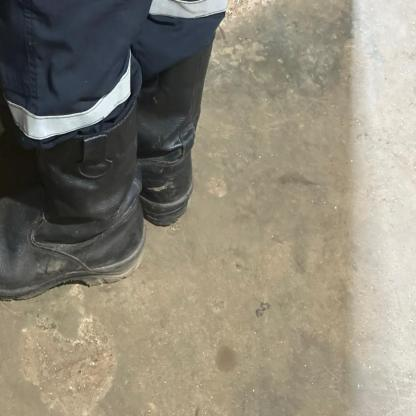bota: (0, 100, 152, 297), (136, 62, 212, 229)
